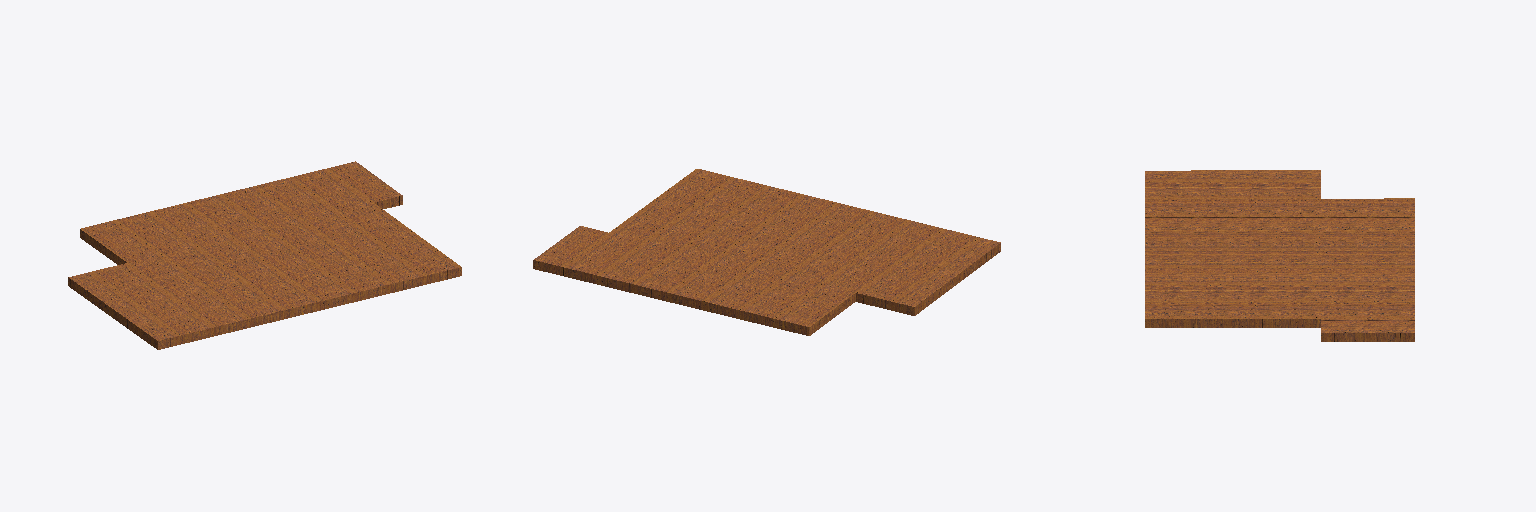
The picture shows the model from 3 angles: view 1: azimuth 30°, elevation 25°; view 2: azimuth 150°, elevation 25°; view 3: azimuth 270°, elevation 25°; orthographic projection.
Parts seen in each view (by area): view 1: 3rdfloor; view 2: 3rdfloor; view 3: 3rdfloor.
Boxes of the visible parts, <box> form: 3rdfloor: <box>68,161,461,349</box>; 3rdfloor: <box>533,169,1000,335</box>; 3rdfloor: <box>1145,170,1414,341</box>.
Size of the model in its own units: 11.58 by 0.3 by 8.08.
Materials: 1 (1 with a texture image).